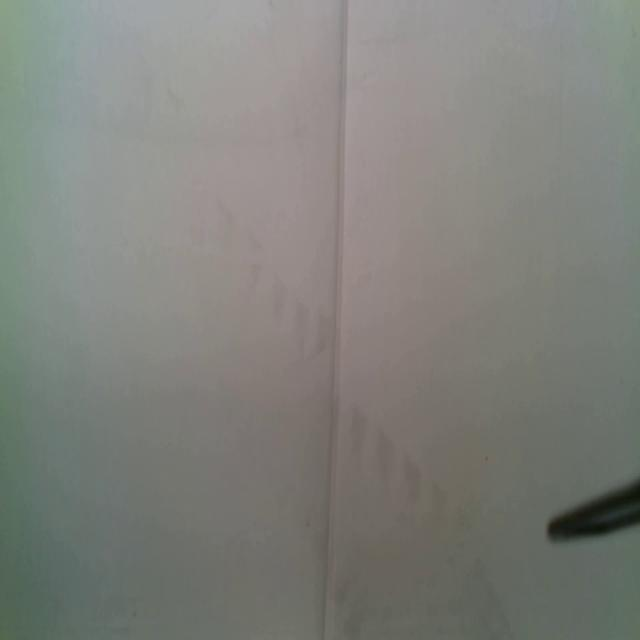crease: (321, 0, 350, 640)
